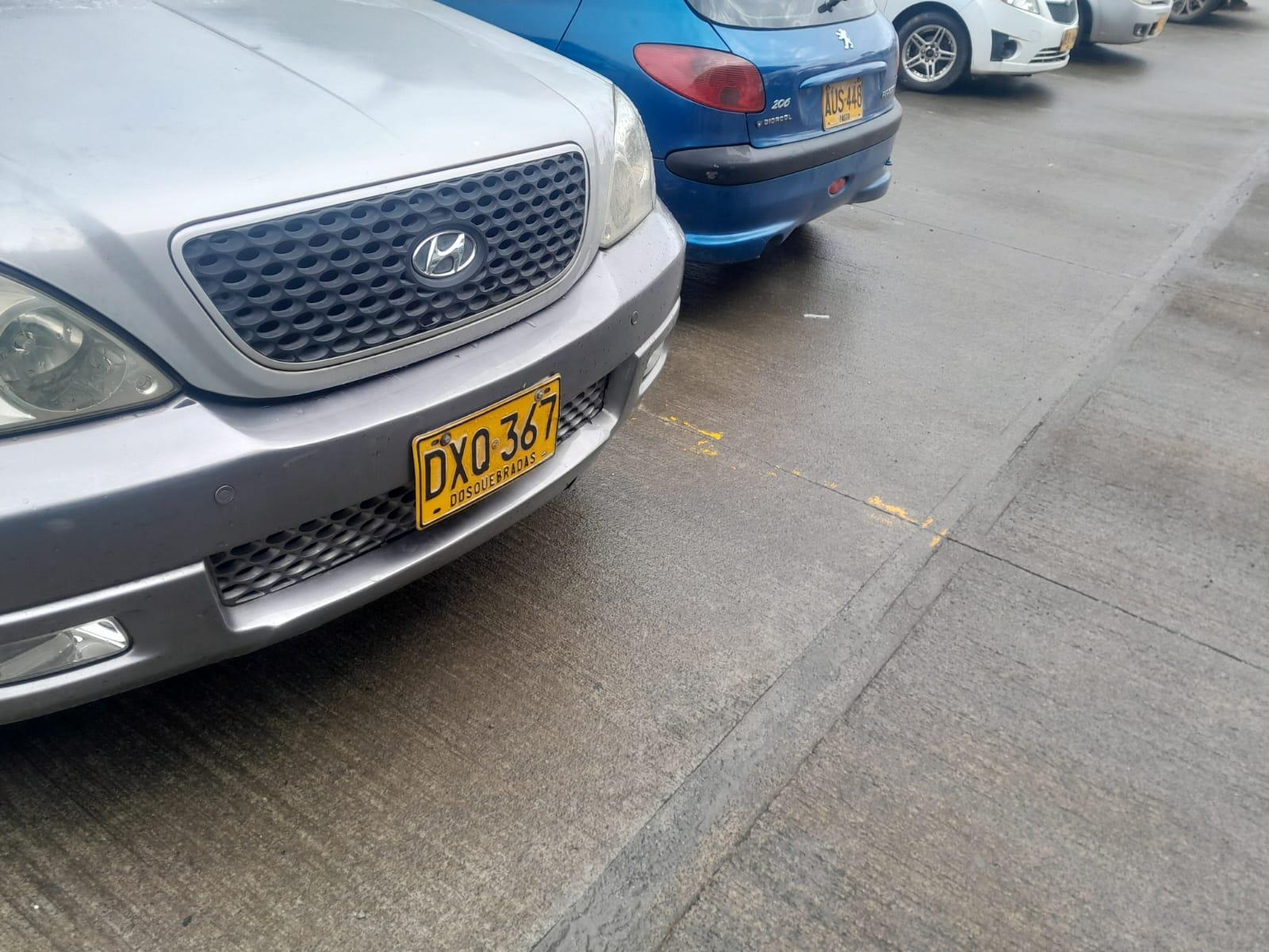placa: (414, 375, 560, 528)
